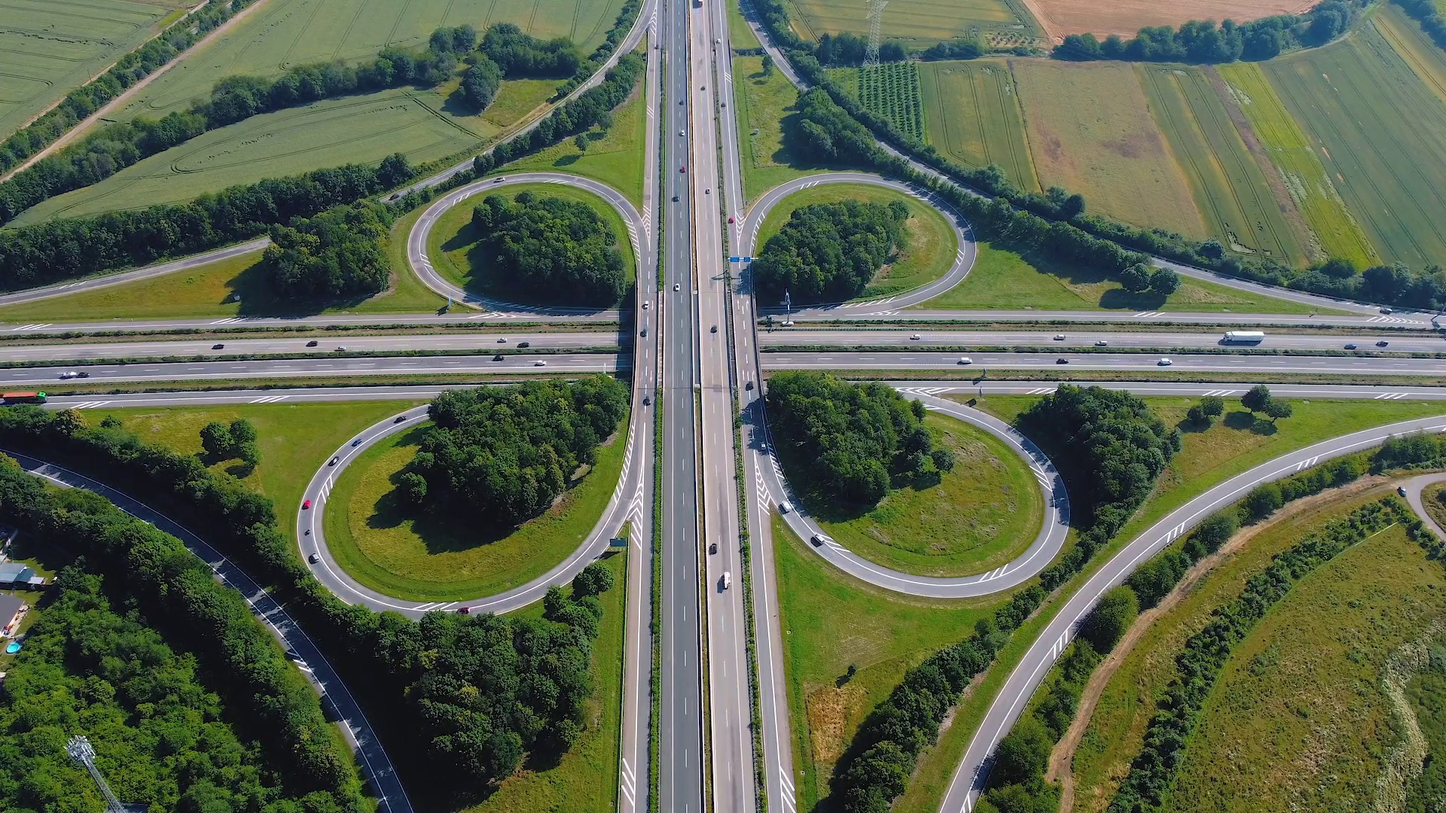Vehicle: (4, 393, 47, 403), (1226, 332, 1264, 343), (813, 532, 824, 547), (351, 437, 364, 449), (781, 502, 792, 514), (723, 573, 731, 589), (1157, 358, 1172, 366), (456, 606, 471, 614), (1397, 487, 1407, 497), (711, 541, 718, 555), (394, 416, 407, 423), (958, 358, 973, 364), (644, 395, 652, 406), (333, 454, 341, 465), (302, 499, 310, 510), (1380, 307, 1392, 314), (77, 371, 91, 377), (1344, 344, 1357, 350), (305, 341, 318, 347), (1056, 358, 1069, 364), (1376, 341, 1389, 347), (492, 355, 505, 361), (674, 281, 681, 292), (1053, 335, 1065, 341), (534, 360, 546, 366), (517, 342, 529, 348), (1094, 341, 1107, 346), (334, 346, 347, 351), (747, 380, 754, 389), (310, 554, 319, 561), (212, 344, 224, 349), (681, 163, 686, 175), (642, 327, 648, 337), (496, 338, 507, 343), (909, 335, 920, 340), (496, 178, 507, 183), (644, 301, 650, 309), (711, 326, 717, 333), (674, 194, 679, 201), (729, 216, 734, 222), (706, 188, 711, 194), (681, 100, 685, 107), (721, 102, 726, 107), (717, 37, 721, 43), (681, 130, 685, 136), (701, 86, 706, 90), (655, 45, 659, 49)
